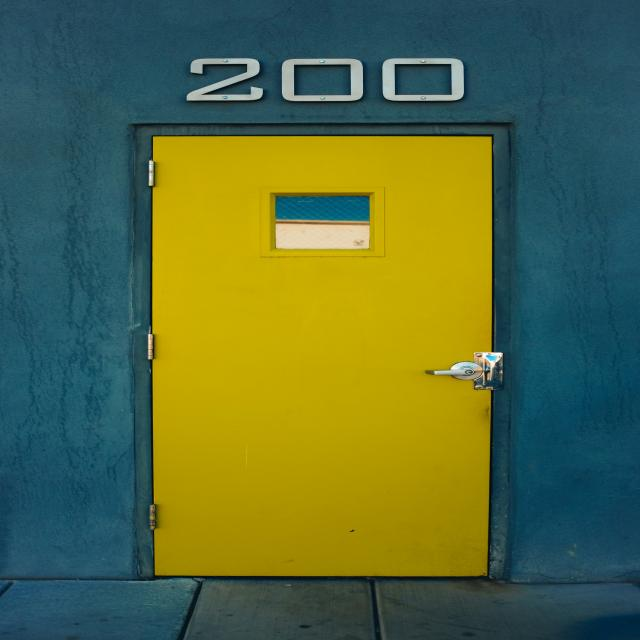door-handle: (426, 361, 483, 380)
